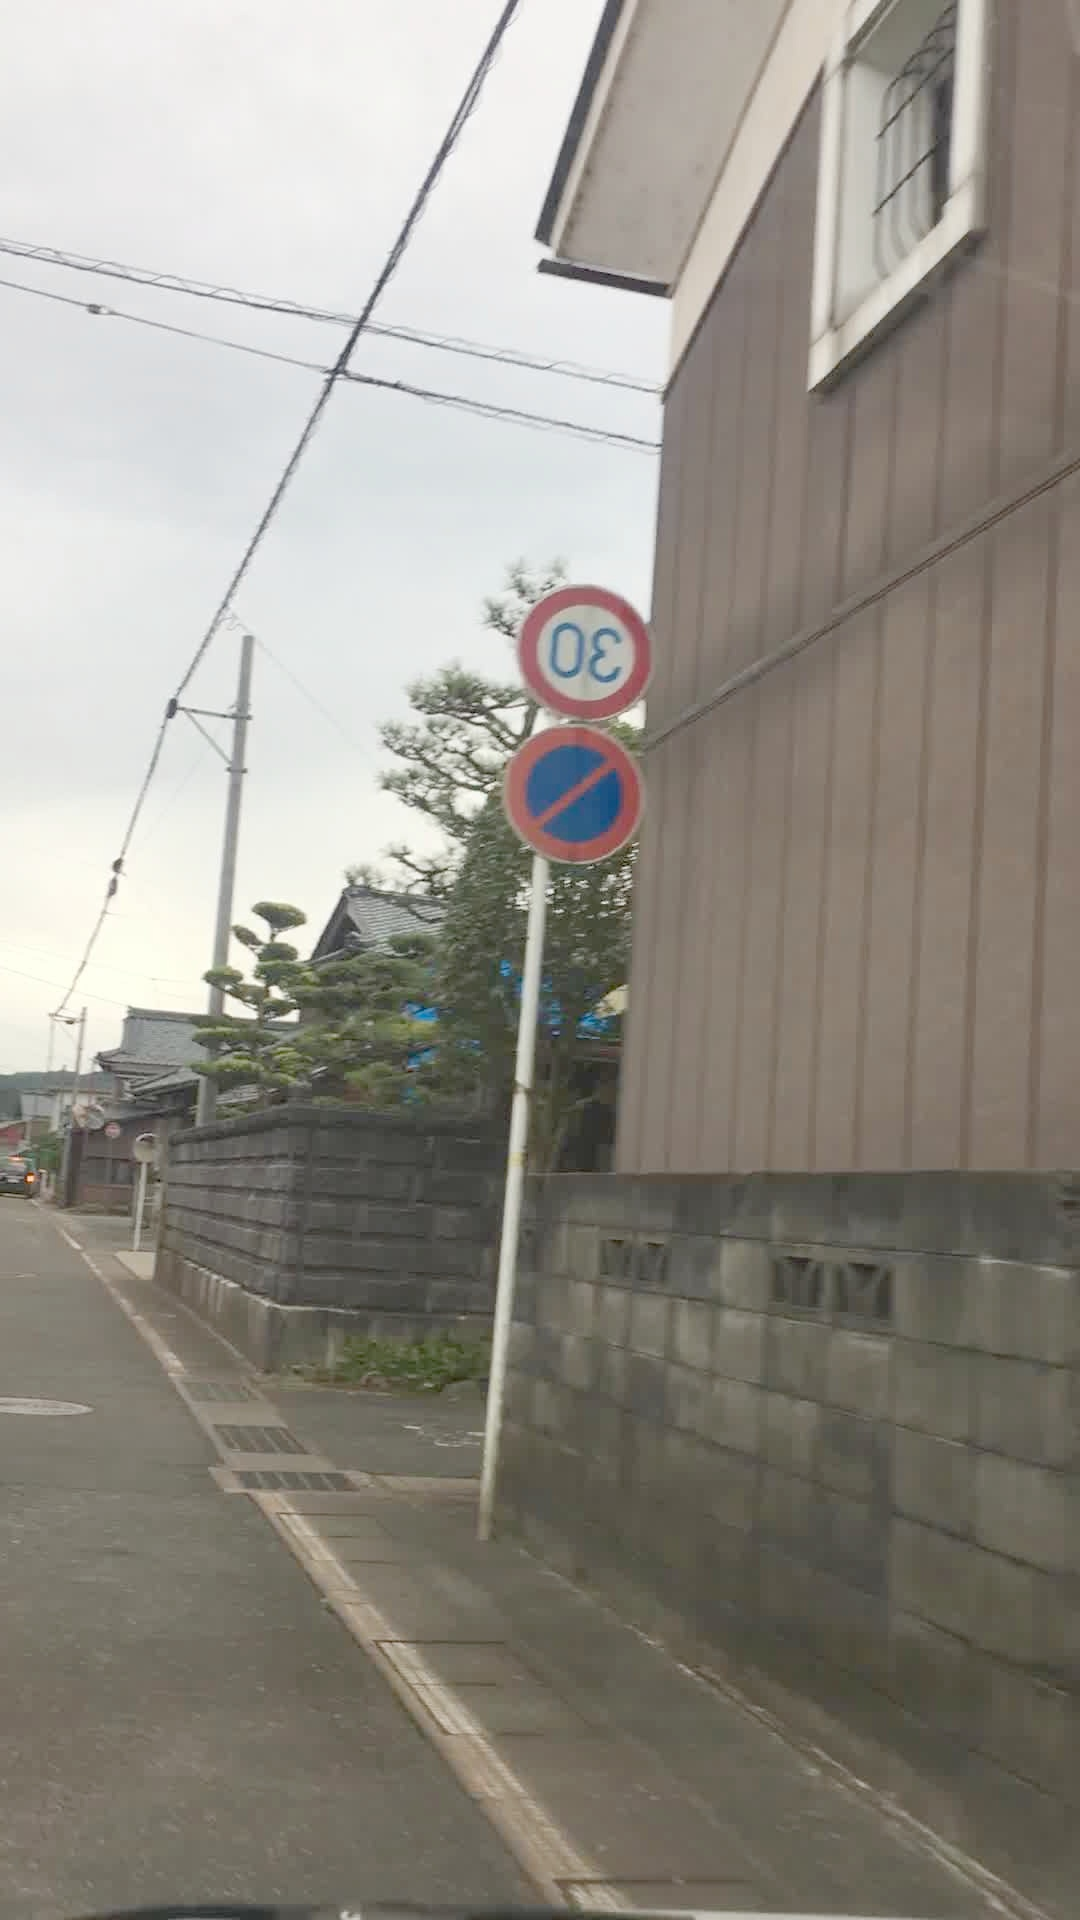Prohibition_sign: (500, 723, 654, 874)
Speed_sign: (510, 564, 658, 735)
